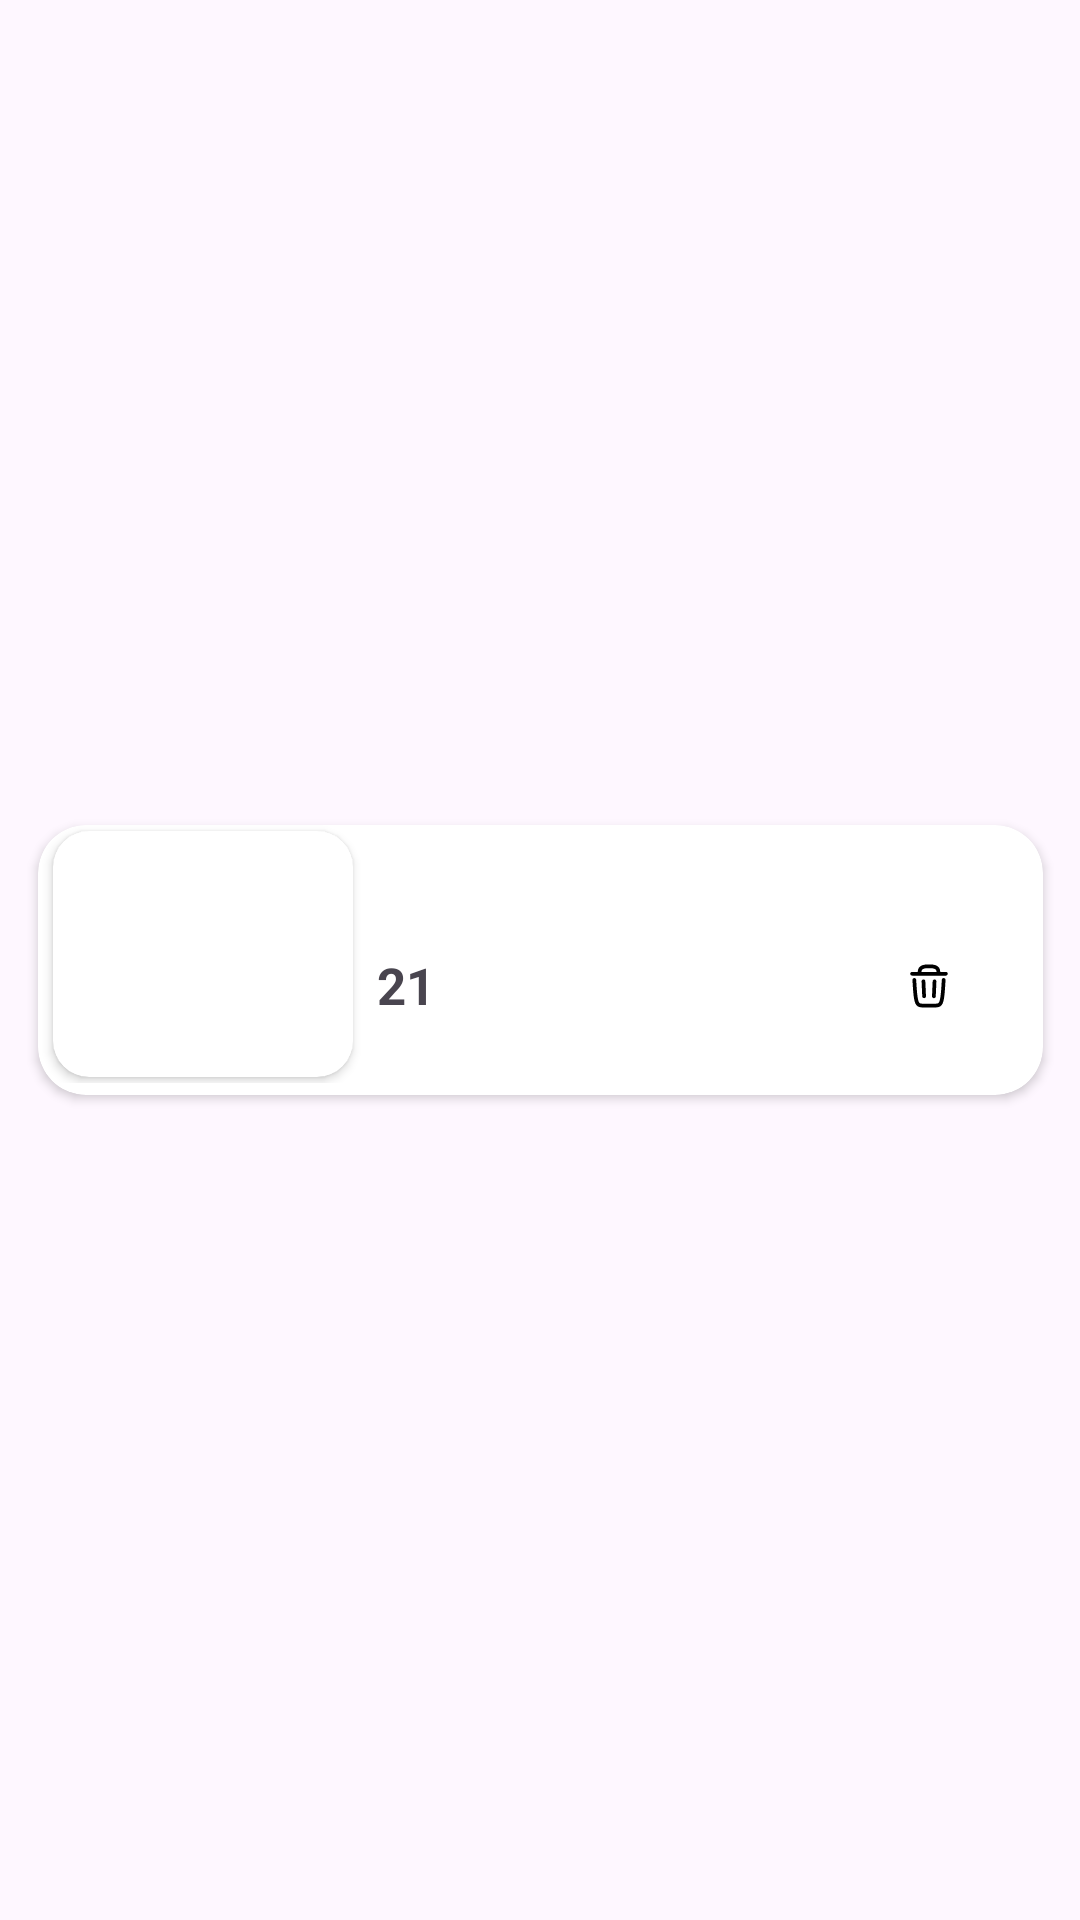

Named icons in this screenshot (1080x1920) and their bounding boxes, {"x1": x1, "y1": y1, "x2": x2, "y2": y2}:
delete: {"x1": 910, "y1": 964, "x2": 948, "y2": 1008}
